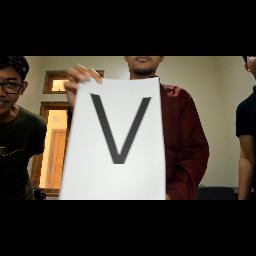v: (86, 88, 154, 168)
